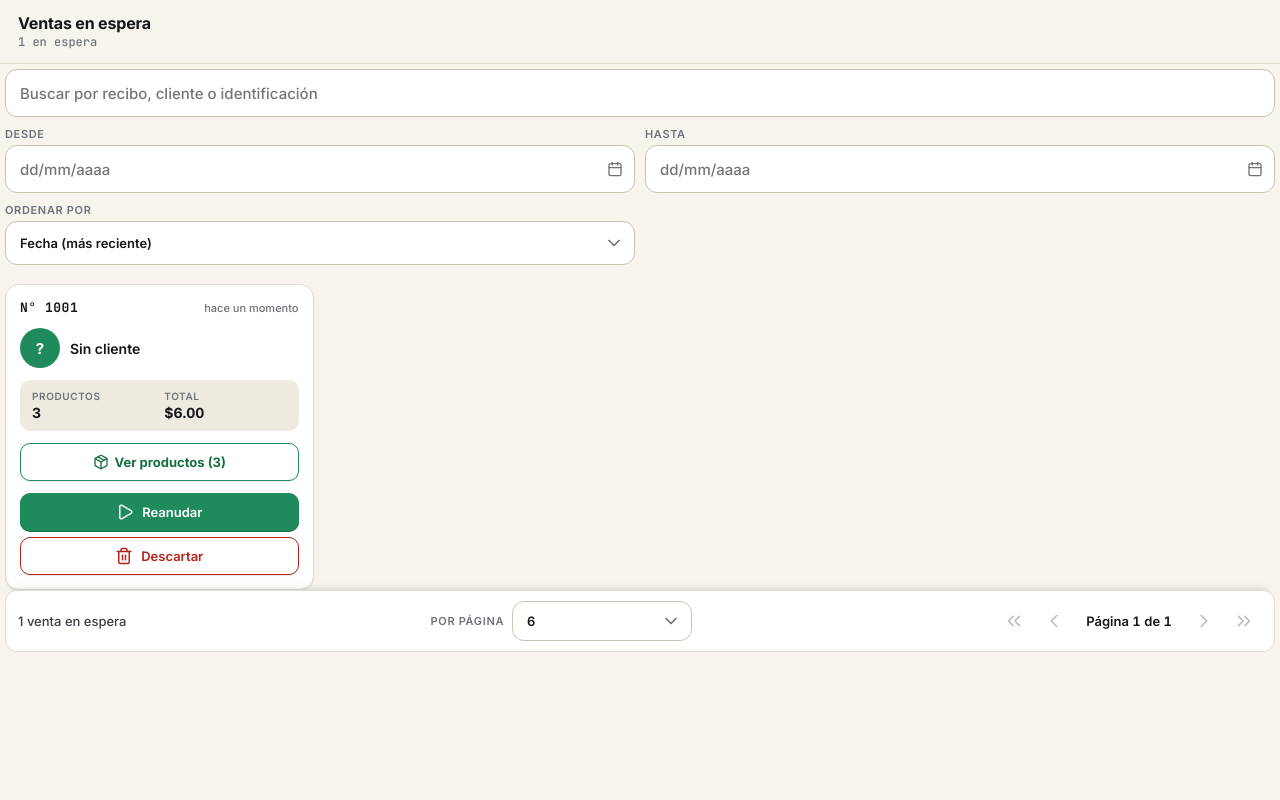
Scenario: StoredCartsScreen — paused-product PRE-confirm before resume › SOME paused → Cancelar does nothing: held cart intact, no resume, no navigation
Click the button "Reanudar".
click(159, 512)  # box x1=20 y1=493 x2=298 y2=531
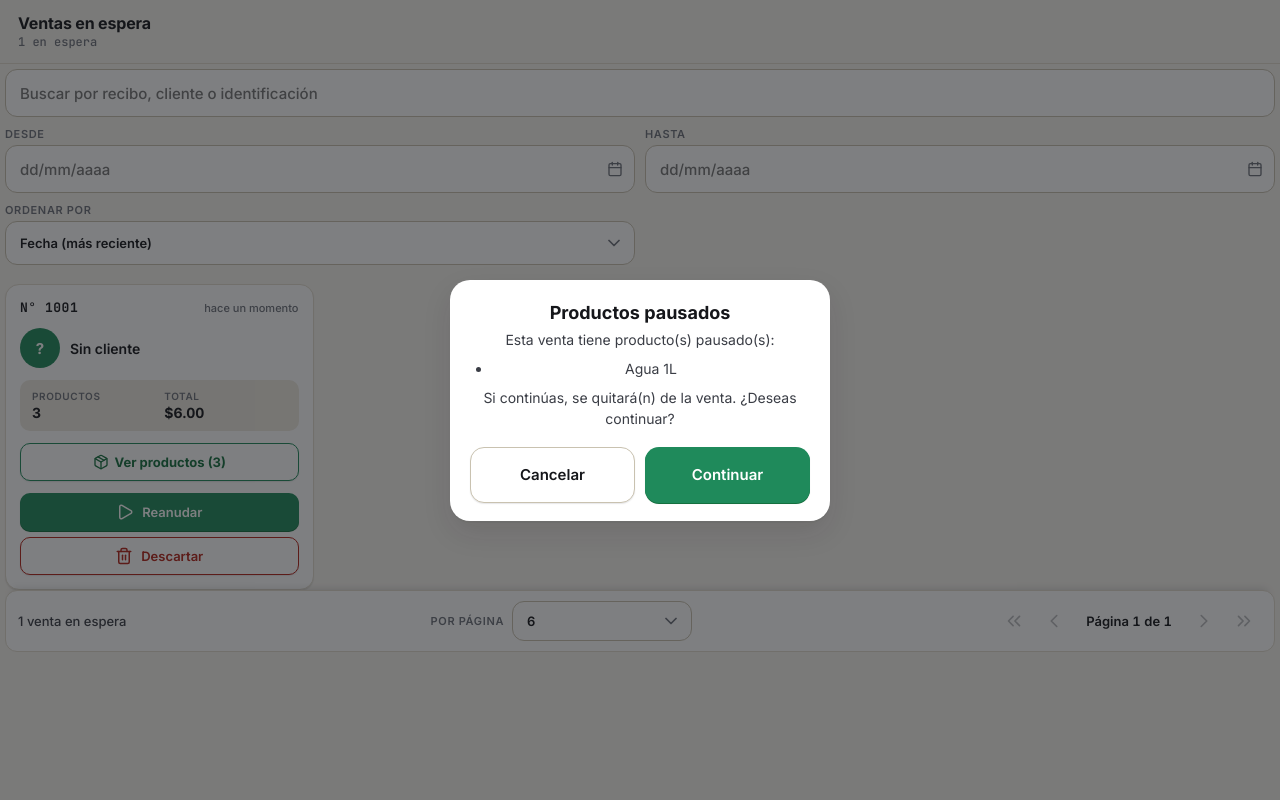
Expected: the text "Productos pausados" is shown, x1=550 y1=302 x2=730 y2=322
Click the button "Cancelar".
click(552, 474)  # box x1=470 y1=446 x2=635 y2=502
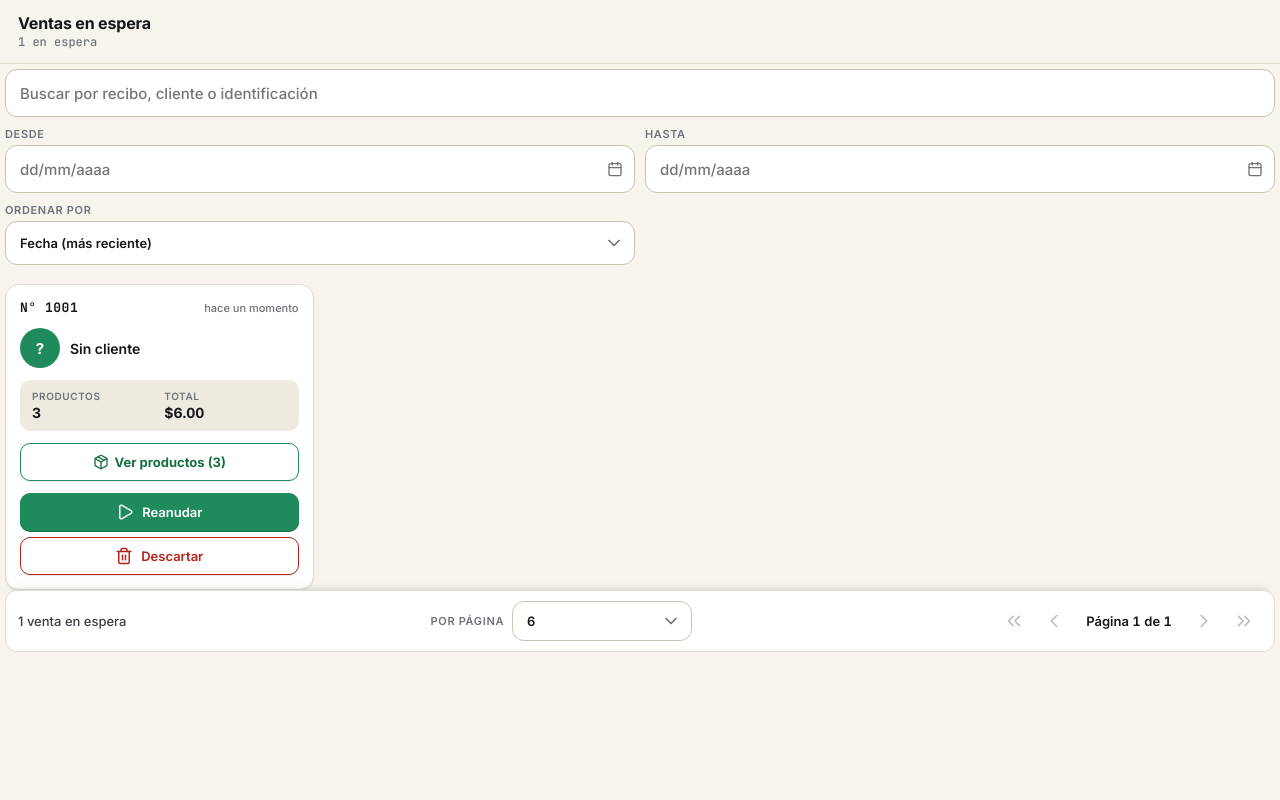
Expected: the text "Productos pausados" is gone
